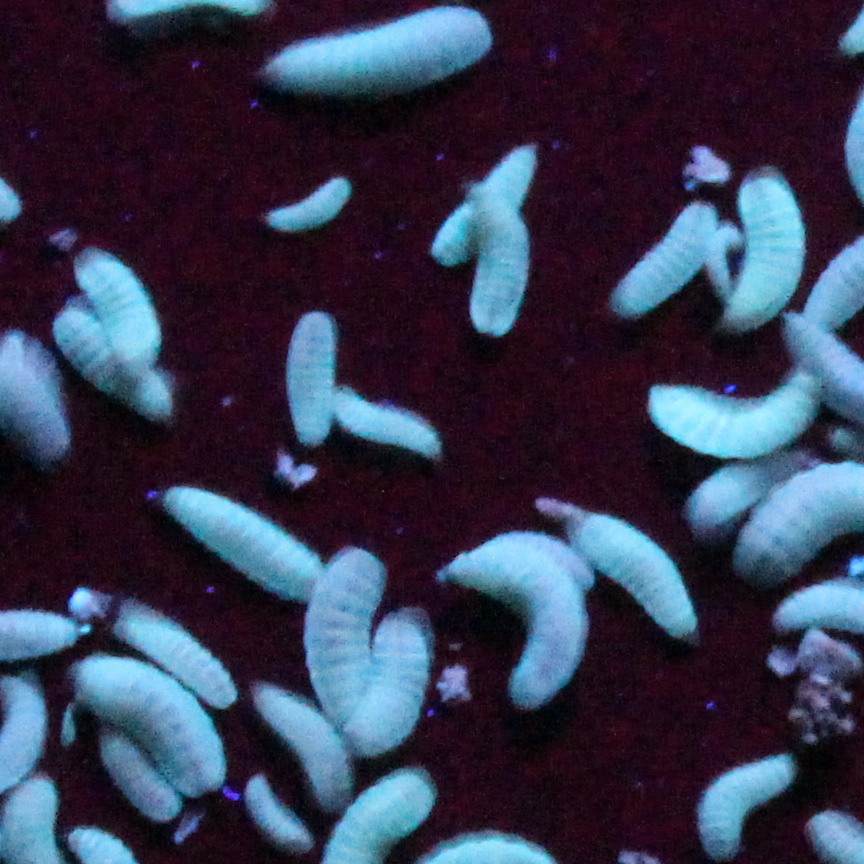larve: (155, 466, 315, 601), (449, 541, 575, 706), (569, 509, 712, 641), (282, 12, 502, 92), (95, 669, 232, 784), (106, 598, 238, 704), (595, 201, 712, 312), (432, 149, 546, 258), (698, 746, 801, 864), (455, 195, 529, 349), (649, 378, 821, 441), (726, 181, 804, 318), (72, 249, 152, 375), (315, 549, 369, 724), (355, 615, 426, 744), (332, 389, 452, 464), (98, 741, 183, 818), (241, 769, 306, 846), (258, 178, 355, 226), (295, 312, 326, 449)
